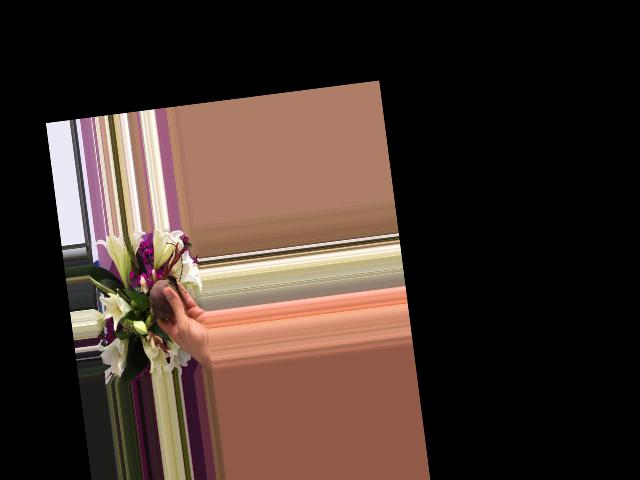beet: (140, 273, 183, 331)
